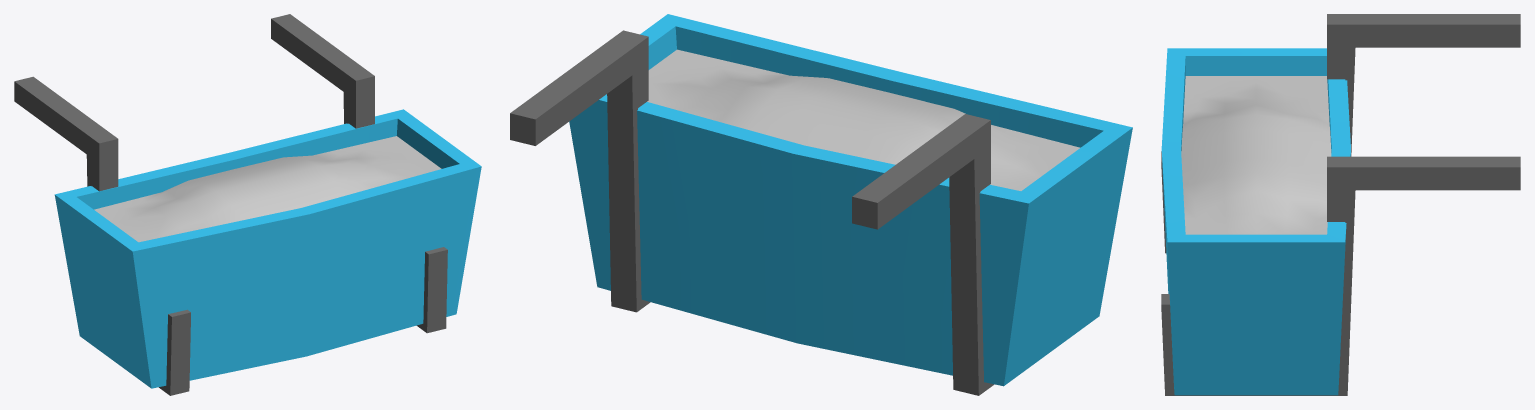
Rendered from Window_flowers_bowl.fbx.
3 renders of one model, left to right at view 1: azimuth 30°, elevation 25°; view 2: azimuth 150°, elevation 25°; view 3: azimuth 270°, elevation 25°, orthographic. The views are drawn at different scales.
Parts seen in each view (by area): view 1: Window_flowers_bowl_LOD0; view 2: Window_flowers_bowl_LOD0; view 3: Window_flowers_bowl_LOD0.
Part boxes in pixels (x1,y1,x2,y2): Window_flowers_bowl_LOD0: (14, 14, 481, 395); Window_flowers_bowl_LOD0: (510, 14, 1132, 395); Window_flowers_bowl_LOD0: (1161, 14, 1520, 395).
Size of what is drawn, in the model's own units: 164 by 90 by 128.
